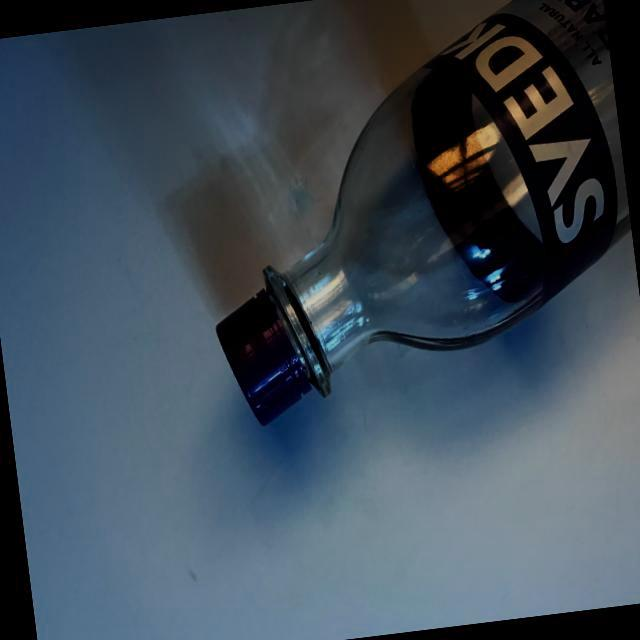glass: (159, 0, 640, 444)
